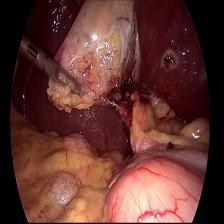Grasper: (21, 34, 81, 107)
